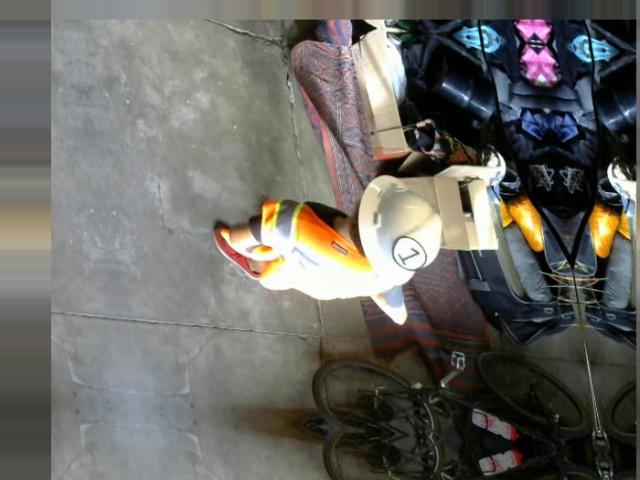one: (389, 234, 428, 271)
